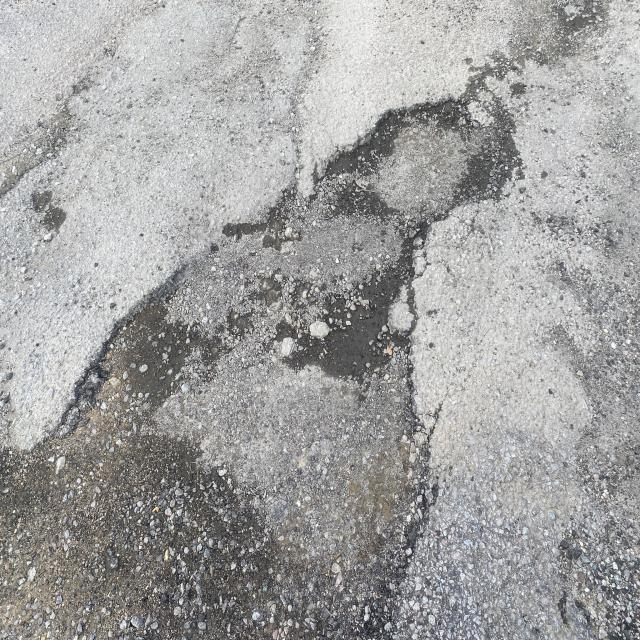Pothole: (65, 63, 602, 350)
